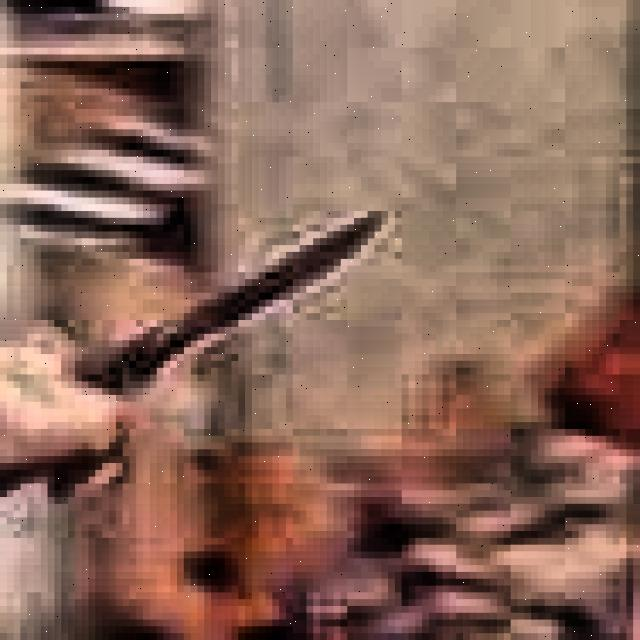knife: (74, 216, 383, 397)
